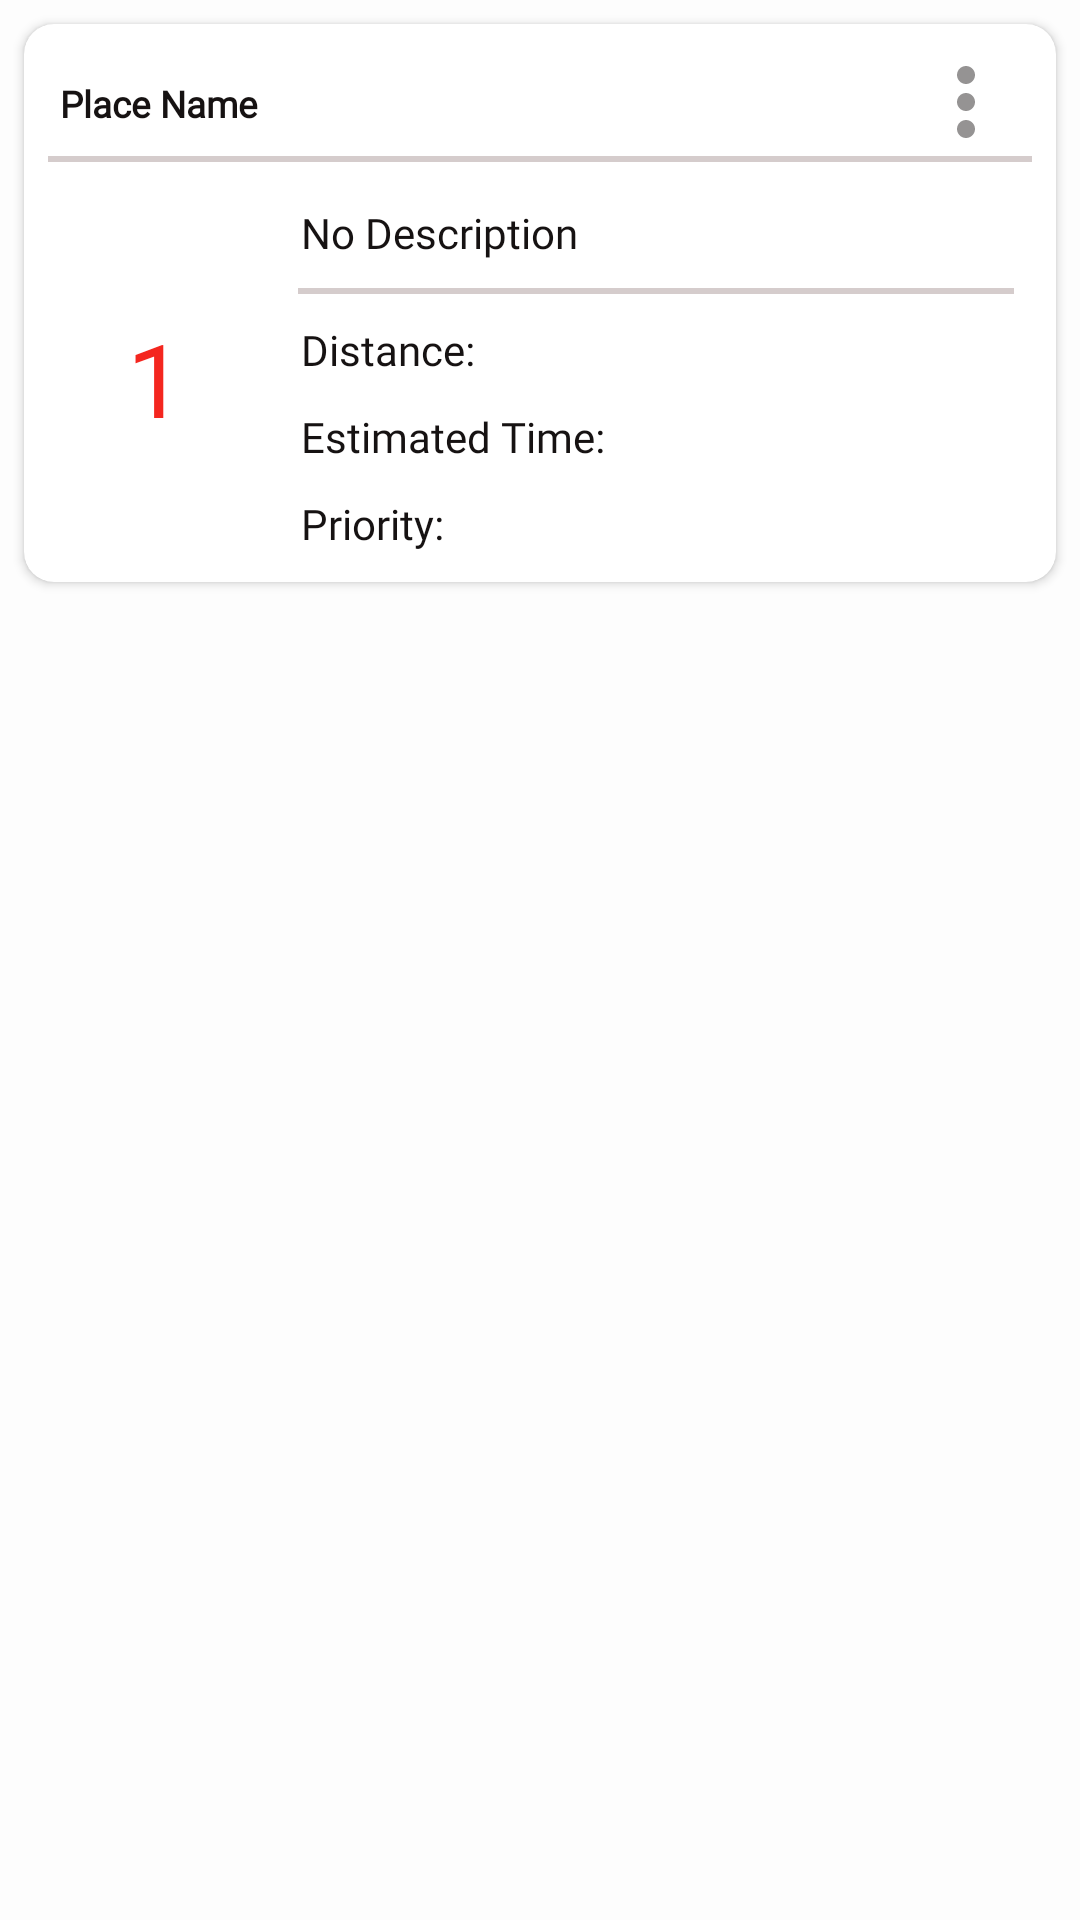

Icons on this 1080px×1920px Android screen, each with the point to tap as [x,y]:
more vert: [966,102]
